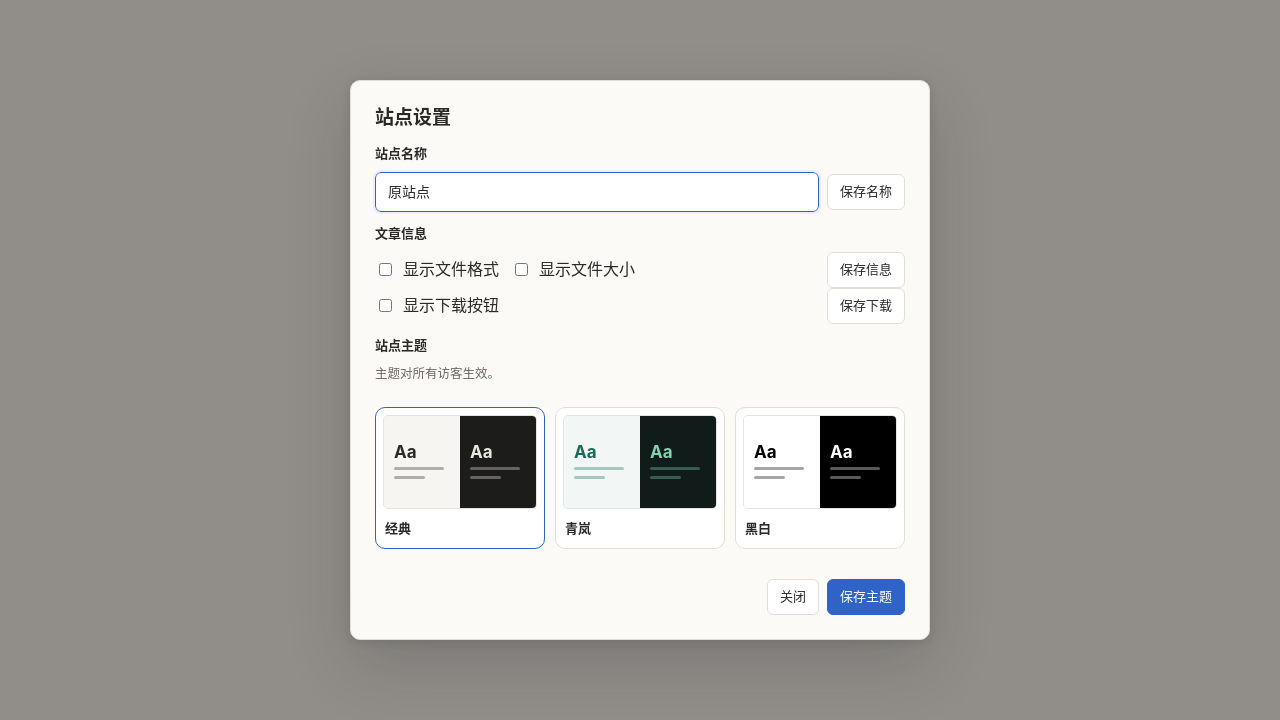
Test case: 站点设置 › 文章信息保存失败时保留原设置
Click the checkbox with id "site-file-type".
click(386, 270)  # box [379,264,392,276]
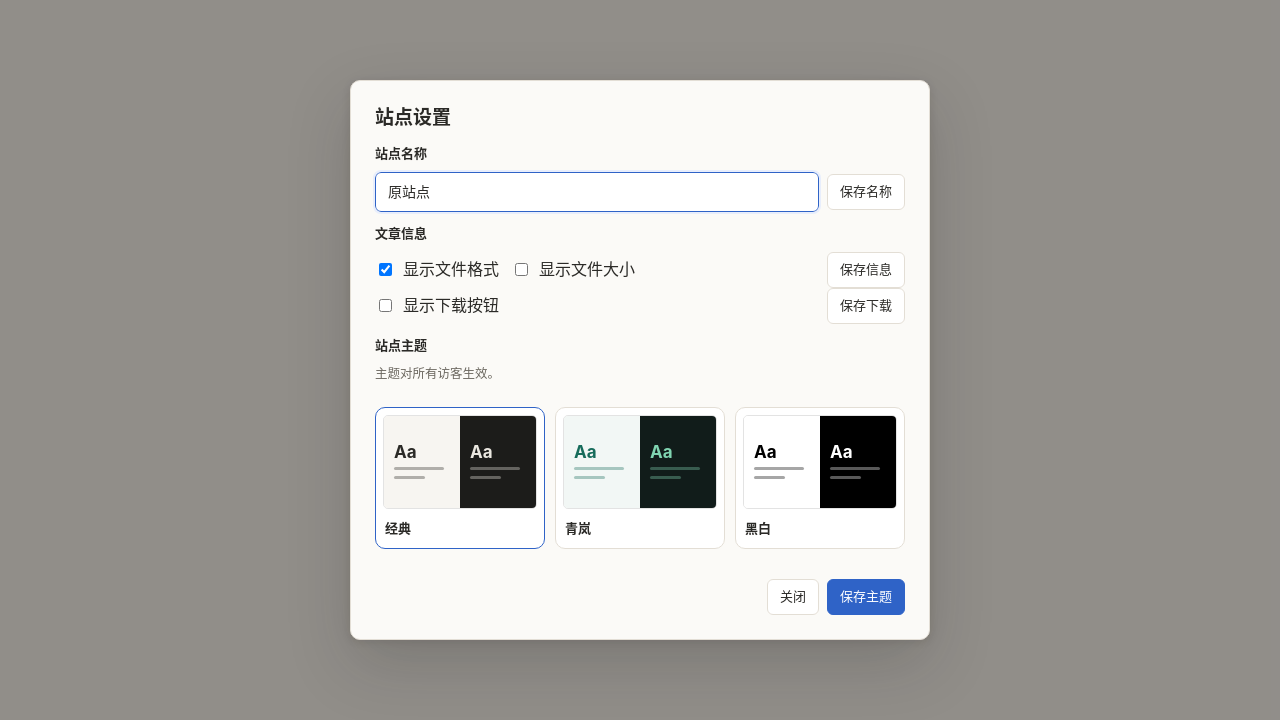
Submit the form with class "site-meta-form", box [375,212,905,288]
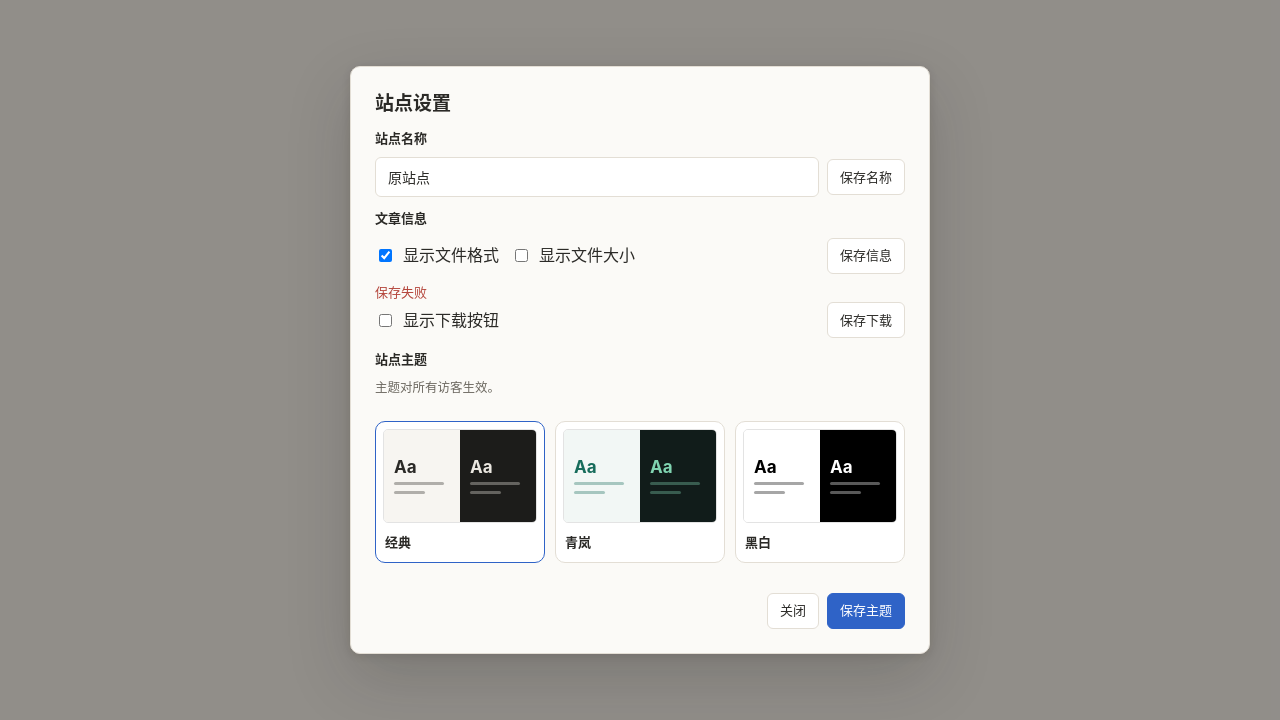
Expected: the message "保存失败" is shown, [375,284,427,300]
